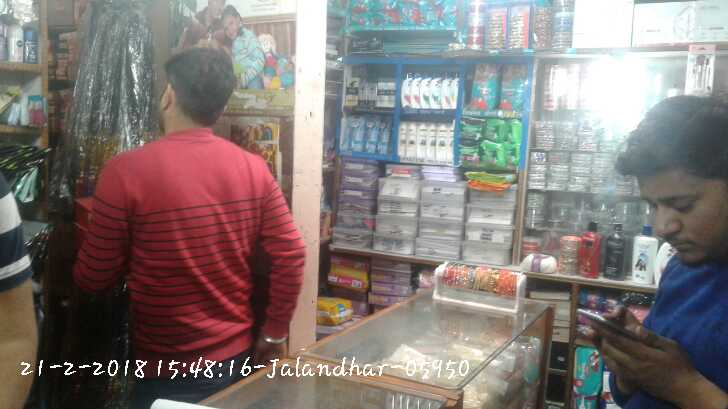venus: (346, 113, 363, 150), (377, 115, 392, 151), (363, 113, 377, 151)
